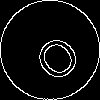O: (25, 25, 84, 85)
